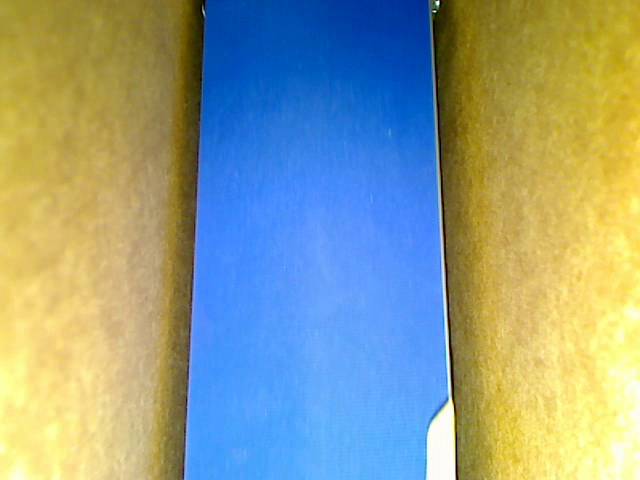penne: (425, 395, 457, 479)
